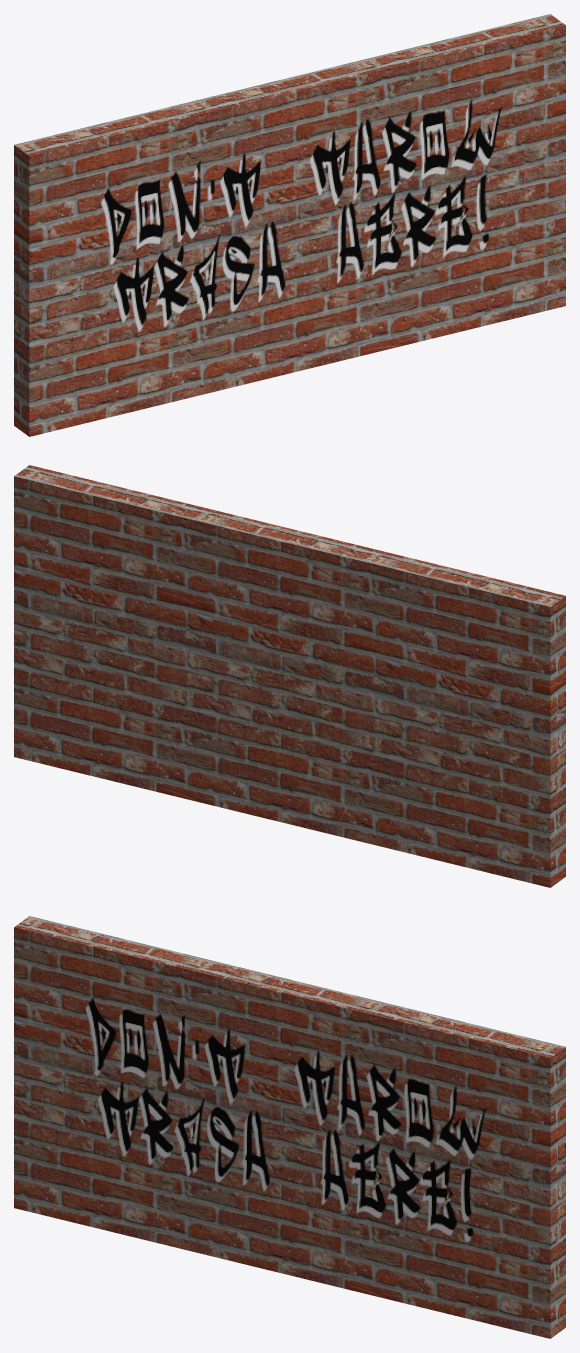
The model's file is wall2.fbx.
The picture shows the model from 3 angles, top to bottom: view 1: azimuth 30°, elevation 25°; view 2: azimuth 150°, elevation 25°; view 3: azimuth 330°, elevation 25°; orthographic projection.
Parts seen in each view (by area): view 1: Polygon_19_2, Polygon_16_2, Polygon_5_2, Polygon_3_2, Polygon_18_2, Polygon_4_2, Polygon_1_2, Polygon_2_2, Polygon_14_2, Polygon_10_2, Polygon_8_2, Polygon_13_2 (+8 smaller); view 2: Polygon_19_2, Polygon_16_2, Polygon_5_2, Polygon_3_2, Polygon_18_2, Polygon_4_2, Polygon_1_2, Polygon_14_2, Polygon_2_2, Polygon_10_2, Polygon_7_2, Polygon_8_2 (+8 smaller); view 3: Polygon_19_2, Polygon_16_2, Polygon_5_2, Polygon_3_2, Polygon_18_2, Polygon_4_2, Polygon_1_2, Polygon_2_2, Polygon_14_2, Polygon_10_2, Polygon_8_2, Polygon_13_2 (+8 smaller).
Part boxes in pixels (left/top/right/bottom): Polygon_19_2: left=14, top=143, right=159, bottom=435; Polygon_16_2: left=14, top=243, right=274, bottom=436; Polygon_5_2: left=400, top=14, right=565, bottom=226; Polygon_3_2: left=366, top=250, right=565, bottom=353; Polygon_18_2: left=380, top=14, right=565, bottom=170; Polygon_4_2: left=405, top=163, right=565, bottom=256; Polygon_1_2: left=19, top=102, right=205, bottom=186; Polygon_2_2: left=147, top=108, right=244, bottom=276; Polygon_14_2: left=189, top=77, right=317, bottom=171; Polygon_10_2: left=173, top=330, right=369, bottom=401; Polygon_8_2: left=274, top=227, right=371, bottom=335; Polygon_13_2: left=266, top=126, right=343, bottom=235; Polygon_19_2: left=419, top=595, right=565, bottom=884; Polygon_16_2: left=306, top=693, right=565, bottom=887; Polygon_5_2: left=14, top=465, right=179, bottom=676; Polygon_3_2: left=14, top=700, right=215, bottom=805; Polygon_18_2: left=14, top=465, right=203, bottom=620; Polygon_4_2: left=14, top=613, right=174, bottom=706; Polygon_1_2: left=376, top=553, right=564, bottom=635; Polygon_14_2: left=263, top=528, right=386, bottom=626; Polygon_2_2: left=342, top=552, right=431, bottom=723; Polygon_10_2: left=213, top=786, right=403, bottom=851; Polygon_7_2: left=174, top=658, right=250, bottom=773; Polygon_8_2: left=211, top=677, right=306, bottom=789; Polygon_19_2: left=14, top=916, right=144, bottom=1206; Polygon_16_2: left=14, top=1105, right=258, bottom=1242; Polygon_5_2: left=384, top=1047, right=565, bottom=1196; Polygon_3_2: left=351, top=1212, right=565, bottom=1338; Polygon_18_2: left=364, top=1007, right=565, bottom=1125; Polygon_4_2: left=390, top=1182, right=565, bottom=1282; Polygon_1_2: left=15, top=917, right=203, bottom=1020; Polygon_2_2: left=132, top=965, right=228, bottom=1107; Polygon_14_2: left=193, top=958, right=304, bottom=1057; Polygon_10_2: left=158, top=1215, right=353, bottom=1290; Polygon_8_2: left=258, top=1129, right=356, bottom=1271; Polygon_13_2: left=251, top=1037, right=327, bottom=1130.
Size of the model in its own units: 1000 by 500 by 50.
Materials: 1 (1 with a texture image).
